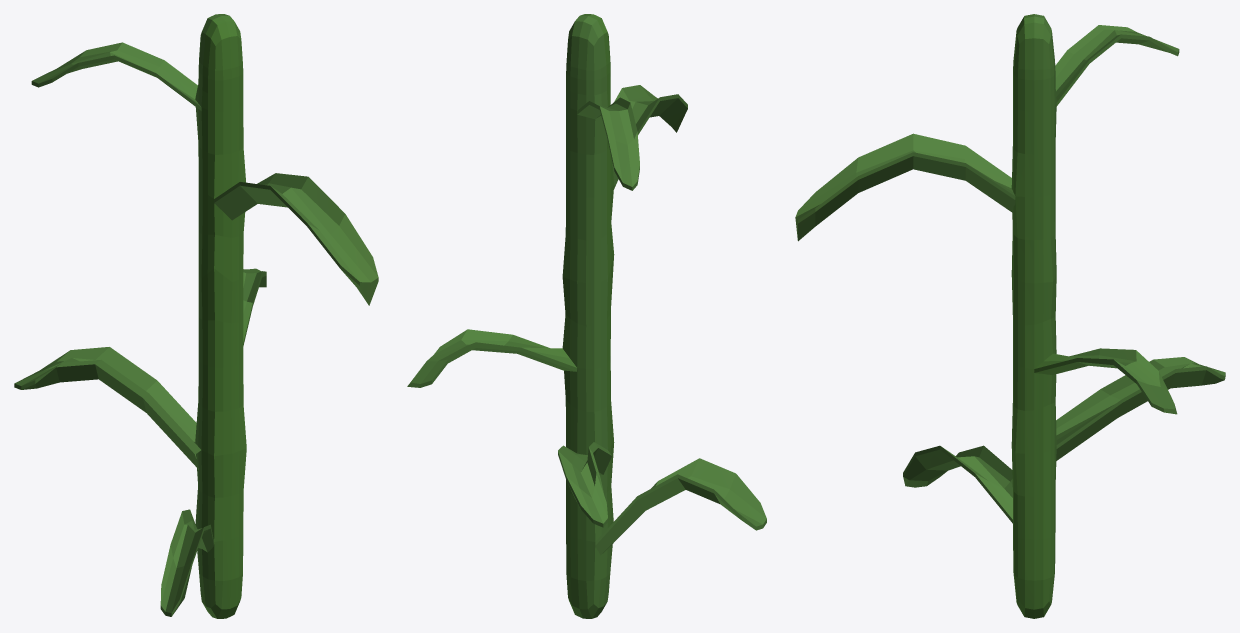
File: SM_Crop_Corn_Stage_Seed.fbx
3 views of the same model, side by side, from view 1: azimuth 30°, elevation 25°; view 2: azimuth 150°, elevation 25°; view 3: azimuth 270°, elevation 25° (orthographic).
Visible parts, largest first — view 1: SM_Crop_Corn_ST1; view 2: SM_Crop_Corn_ST1; view 3: SM_Crop_Corn_ST1.
Part boxes in pixels (x1,y1,x2,y2): SM_Crop_Corn_ST1: (14,14,378,618); SM_Crop_Corn_ST1: (407,14,766,618); SM_Crop_Corn_ST1: (795,14,1225,618).
Bounding box in the file's own units: 56.12 × 142 × 92.49.
Materials: 1 (1 with a texture image).
